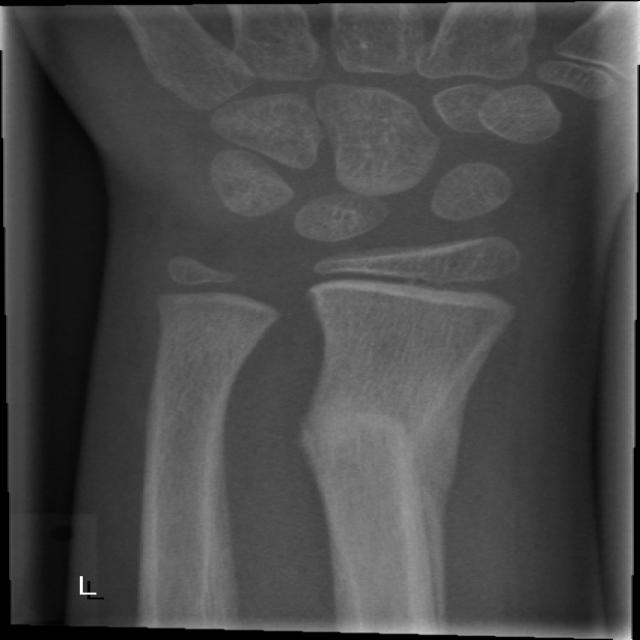radius fracture: (263, 343, 501, 583)
